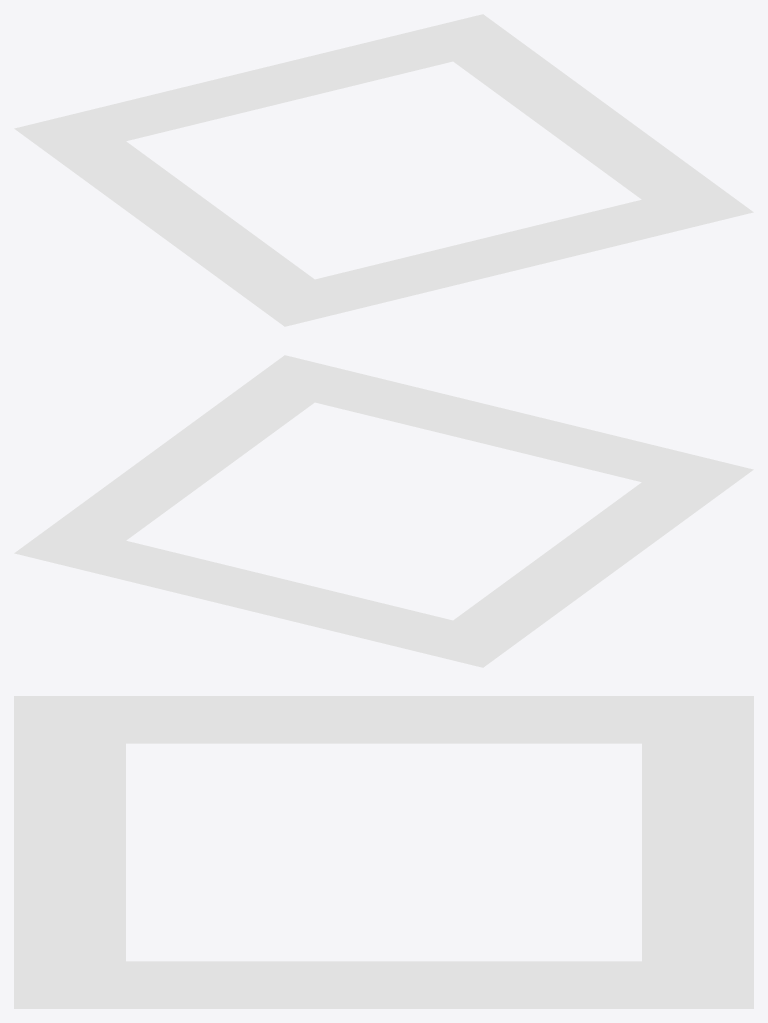
File: border.fbx
3 renders of one model, top to bottom at view 1: azimuth 30°, elevation 25°; view 2: azimuth 150°, elevation 25°; view 3: azimuth 270°, elevation 25°, orthographic. The views are drawn at different scales.
Parts seen in each view (by area): view 1: polySurface3, polySurface2, polySurface6, polySurface5; view 2: polySurface3, polySurface2, polySurface6, polySurface5; view 3: polySurface6, polySurface5, polySurface3, polySurface2.
Boxes of the visible parts, x1=… form: polySurface3: x1=285, y1=199, x2=753, y2=326; polySurface2: x1=14, y1=14, x2=482, y2=141; polySurface6: x1=453, y1=14, x2=753, y2=212; polySurface5: x1=14, y1=128, x2=314, y2=326; polySurface3: x1=285, y1=355, x2=753, y2=482; polySurface2: x1=14, y1=540, x2=482, y2=667; polySurface6: x1=14, y1=355, x2=314, y2=553; polySurface5: x1=453, y1=469, x2=753, y2=667; polySurface6: x1=14, y1=961, x2=753, y2=1008; polySurface5: x1=14, y1=696, x2=753, y2=743; polySurface3: x1=14, y1=696, x2=125, y2=1008; polySurface2: x1=642, y1=696, x2=753, y2=1008.
Bounding box in the file's own units: 1.43 × 0 × 1.43.
